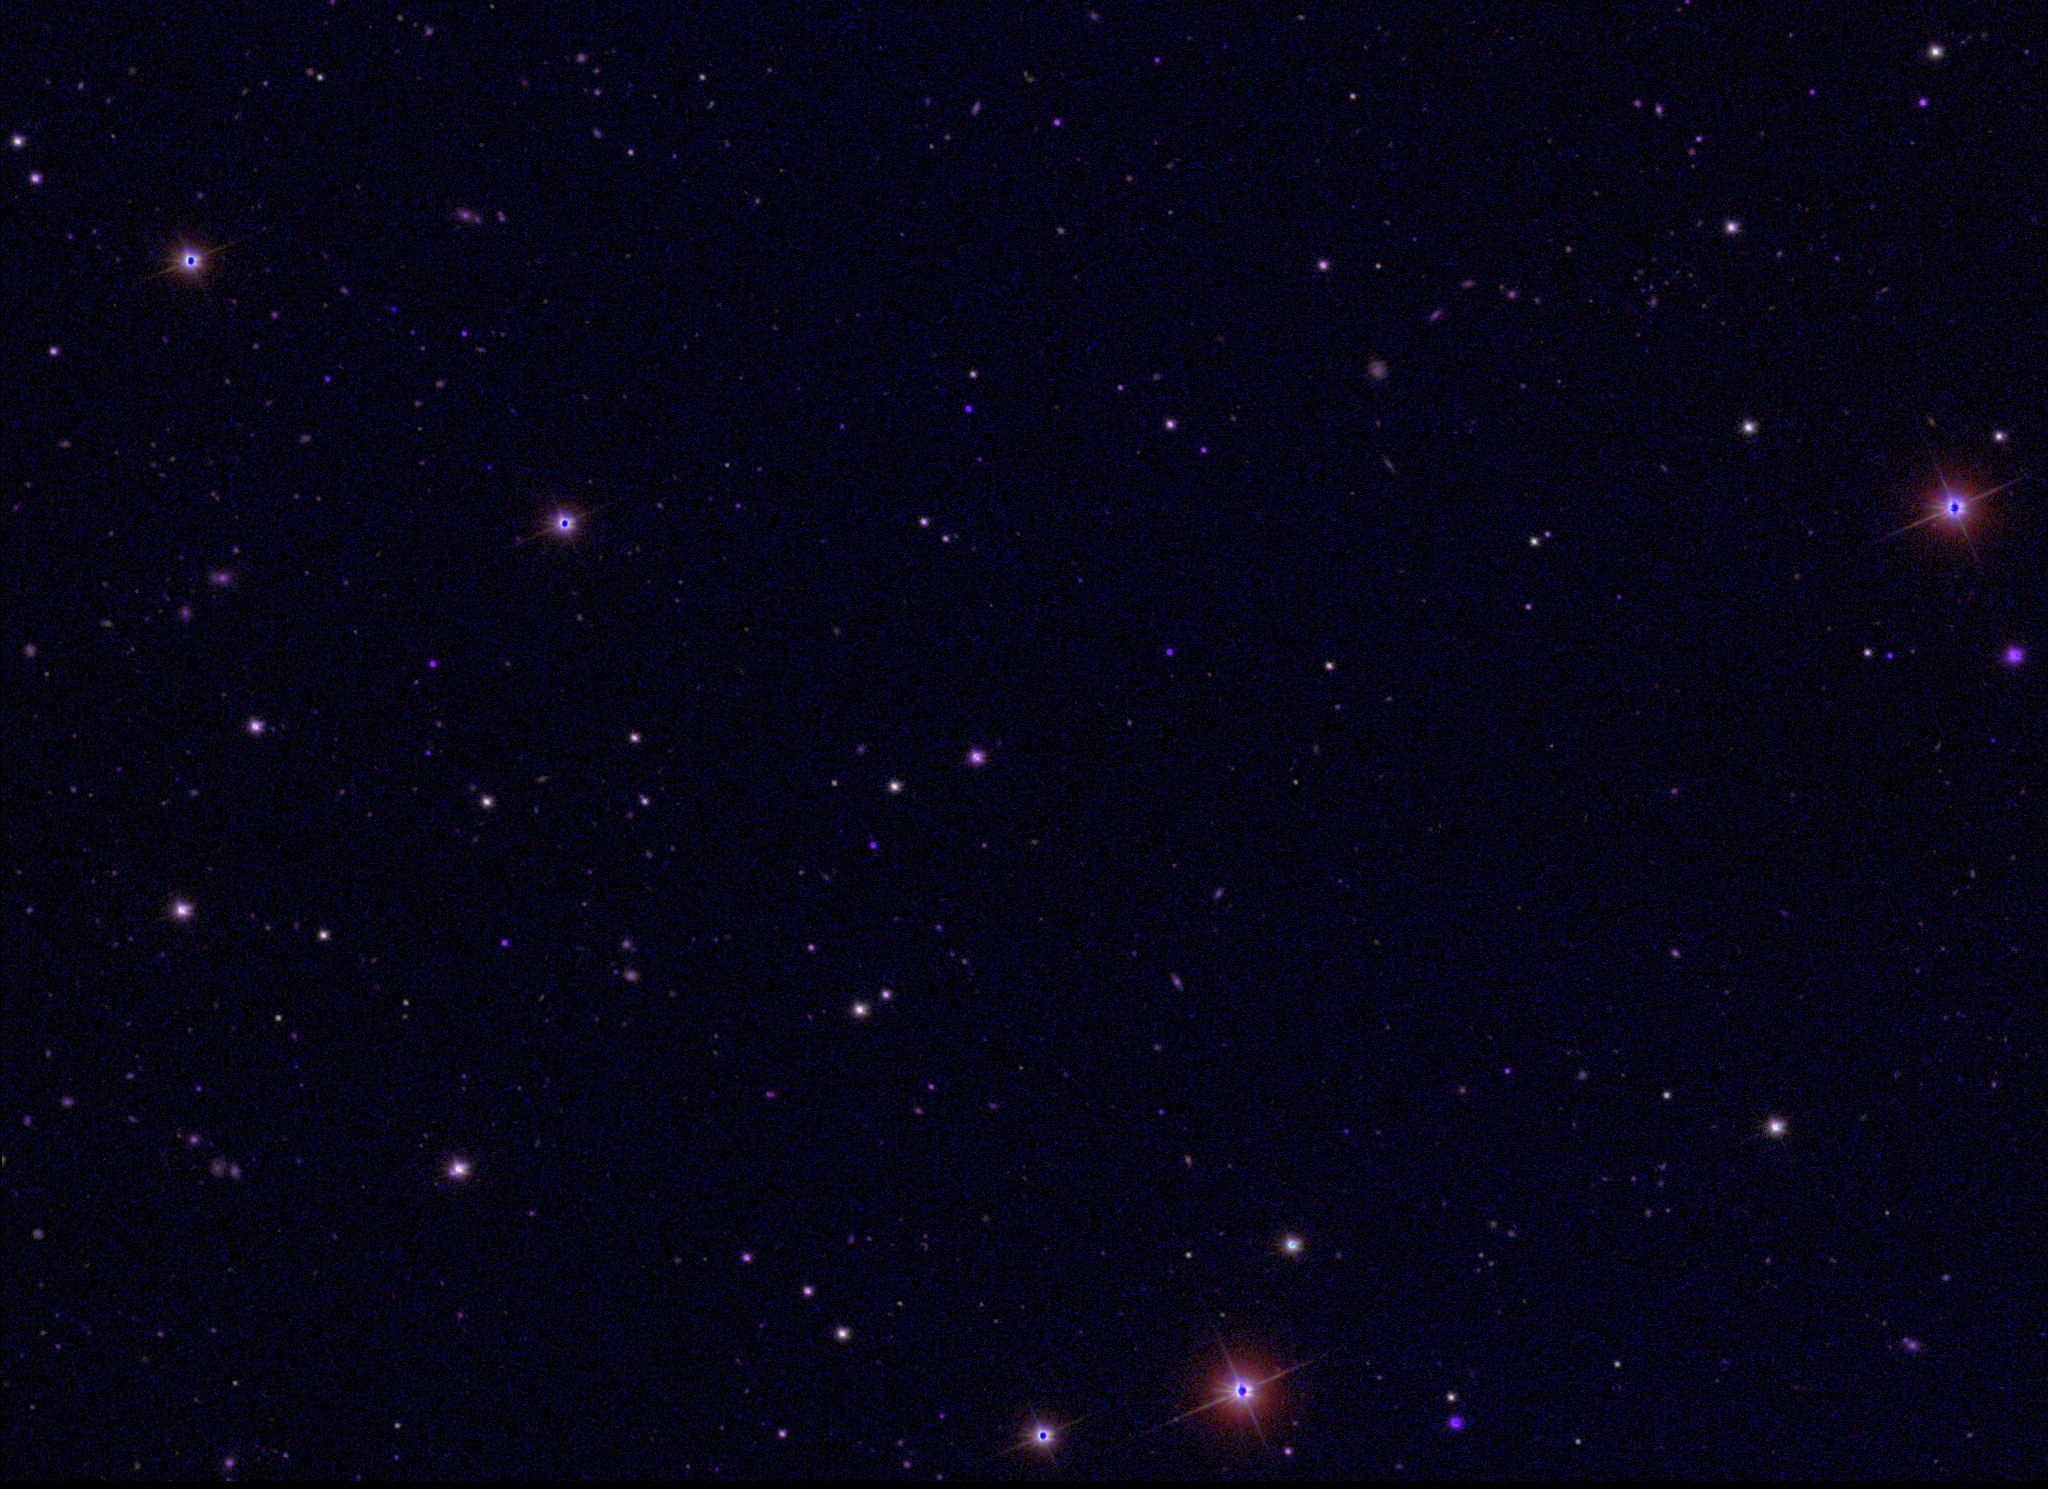L: (390, 301, 402, 315)
